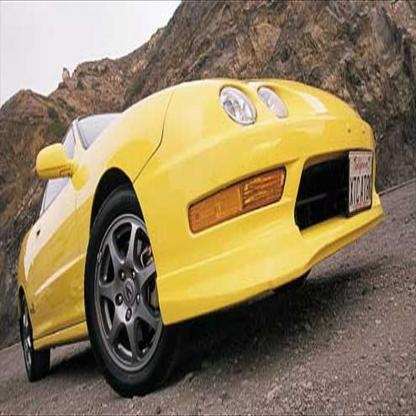car: (15, 77, 386, 390)
